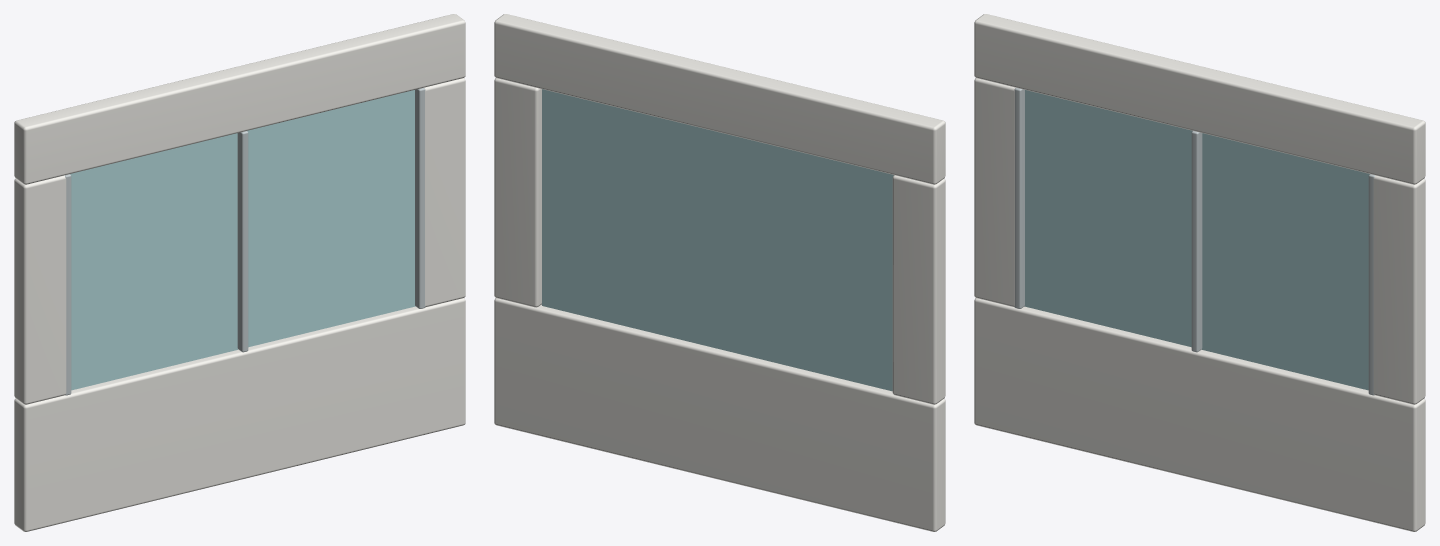
The model's file is Wall_Window_4m.fbx.
3 renders of one model, left to right at view 1: azimuth 30°, elevation 25°; view 2: azimuth 150°, elevation 25°; view 3: azimuth 330°, elevation 25°, orthographic.
Parts seen in each view (by area): view 1: Wall_Window_4m_White, Wall_Window_4m_Glass, Wall_Window_4m_Steel; view 2: Wall_Window_4m_White, Wall_Window_4m_Glass; view 3: Wall_Window_4m_White, Wall_Window_4m_Glass, Wall_Window_4m_Steel.
Boxes of the visible parts, box(x1,y1,x2,y2) form: Wall_Window_4m_White: box(14, 14, 465, 531); Wall_Window_4m_Glass: box(70, 90, 415, 390); Wall_Window_4m_Steel: box(65, 88, 425, 395); Wall_Window_4m_White: box(494, 14, 945, 531); Wall_Window_4m_Glass: box(542, 89, 893, 391); Wall_Window_4m_White: box(974, 14, 1425, 531); Wall_Window_4m_Glass: box(1024, 90, 1369, 390); Wall_Window_4m_Steel: box(1014, 88, 1374, 395).
Bounding box in the file's own units: 400 × 350 × 18.
